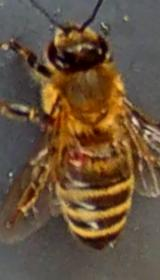varroa_mite: (59, 140, 90, 172)
